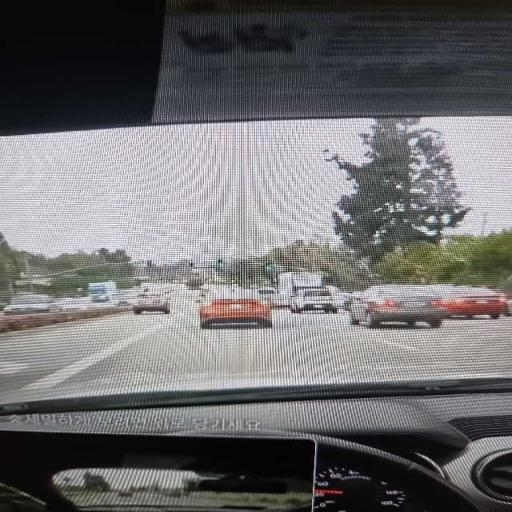car: (349, 286, 447, 327), (200, 294, 271, 328), (436, 287, 508, 319), (291, 288, 338, 313), (4, 295, 61, 315), (132, 293, 170, 314), (326, 286, 350, 310), (55, 297, 91, 312), (257, 287, 277, 307), (111, 292, 136, 307)
lane: (0, 296, 511, 395), (0, 314, 155, 392)
truck: (278, 272, 323, 307), (88, 281, 116, 302)
